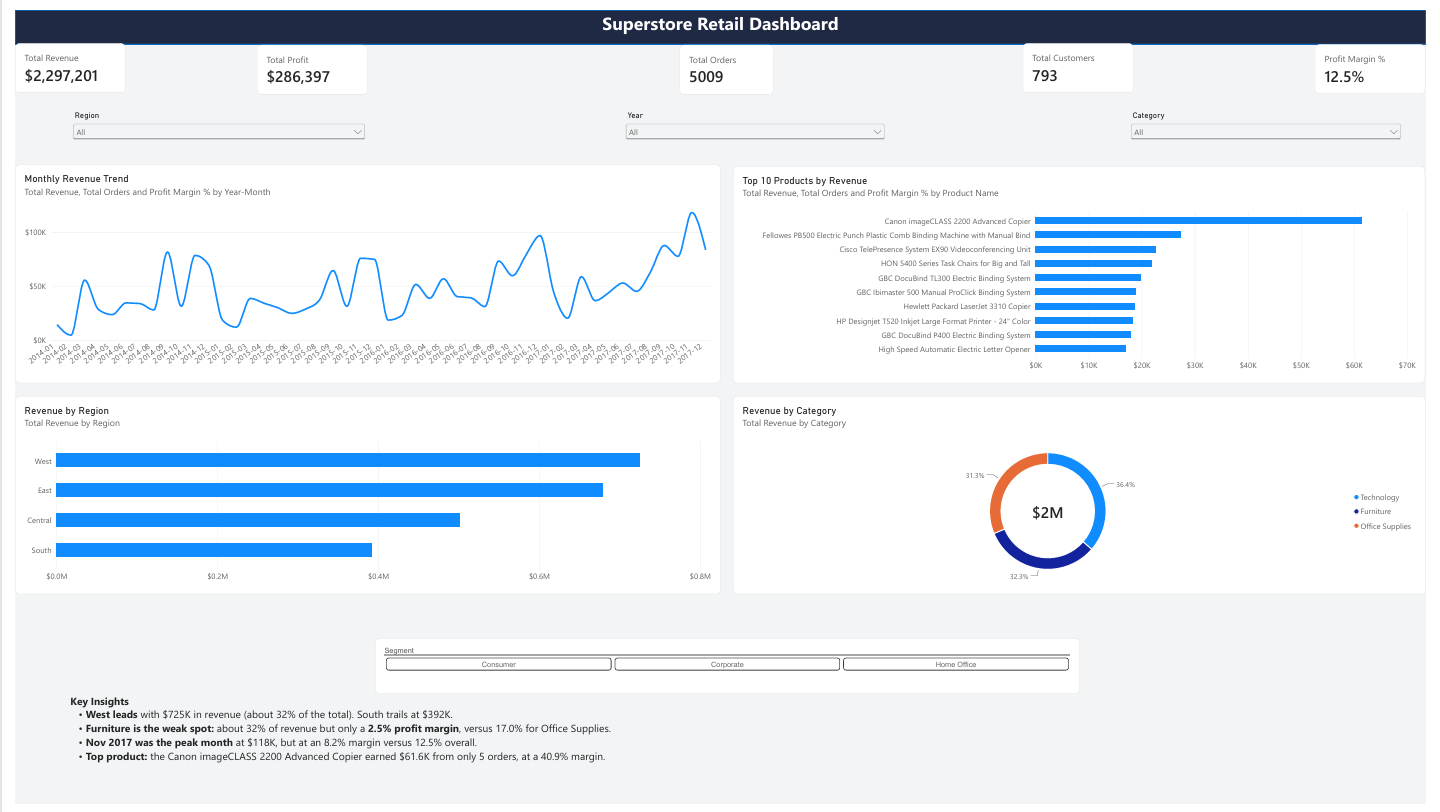

The page's visual inventory and layout, read from the dashboard file:
{"tool":"powerbi","page":{"name":"Overview","canvas":[2560,1440],"ordinal":0},"visuals":[{"type":"shape","box":[0,0,2560,61.5],"z":0},{"type":"textbox","box":[0,0,2560,69.7],"z":1000},{"type":"cardVisual","fields":{"Data":["Measures (2).Total Profit"]},"box":[439.1,62.7,200,90],"z":2000},{"type":"cardVisual","fields":{"Data":["Measures (2).Total Revenue"]},"box":[0,60.3,200,90],"z":3000},{"type":"cardVisual","fields":{"Data":["Measures (2).Total Customers"]},"box":[1829,60.3,200,90],"z":4000},{"type":"cardVisual","fields":{"Data":["Measures (2).Total Orders"]},"box":[1206.4,62.7,170,90],"z":5000},{"type":"cardVisual","fields":{"Data":["Measures (2).Profit Margin %"]},"box":[2359,61.5,200,90],"z":6000},{"type":"lineChart","title":"Monthly Revenue Trend","fields":{"Category":["DateTable.Year-Month"],"Y":["Measures (2).Total Revenue"]},"box":[0,280,1280,396.7],"z":7000},{"type":"clusteredBarChart","title":"Top 10 Products by Revenue","fields":{"Category":["Sales.Product Name"],"Y":["Measures (2).Total Revenue"]},"box":[1303.3,283.3,1255.4,393.8],"z":8000},{"type":"clusteredBarChart","title":"Revenue by Region","fields":{"Category":["Sales.Region"],"Y":["Measures (2).Total Revenue"]},"box":[0,700,1280,360],"z":9000},{"type":"donutChart","title":"Revenue by Category","fields":{"Category":["Sales.Category"],"Y":["Measures (2).Total Revenue"]},"box":[1303.3,700,1256.7,360],"z":10000},{"type":"slicer","fields":{"Values":["Sales.Region"]},"box":[100,183.3,540,83.3],"z":11000},{"type":"slicer","fields":{"Values":["Sales.Category"]},"box":[2020,183.3,500,53.3],"z":12000},{"type":"slicer","fields":{"Values":["DateTable.Year"]},"box":[1103.3,183.3,480,106.7],"z":13000},{"type":"ChicletSlicer1448559807354","fields":{"Category":["Sales.Segment"]},"box":[652.6,1140,1279,99.6],"z":14000},{"type":"textbox","box":[100,1240,1275,200],"z":14002}]}

Visuals, with their boxes in screenshot pixels (x1, y1, x2, y2), scaled from the page's 2560x1440 canvas onto the 1440x812 screenshot:
shape: bbox=(0, 0, 1439, 35)
textbox: bbox=(0, 0, 1439, 39)
cardVisual - Measures (2).Total Profit: bbox=(247, 35, 359, 86)
cardVisual - Measures (2).Total Revenue: bbox=(0, 34, 112, 85)
cardVisual - Measures (2).Total Customers: bbox=(1029, 34, 1141, 85)
cardVisual - Measures (2).Total Orders: bbox=(679, 35, 774, 86)
cardVisual - Measures (2).Profit Margin %: bbox=(1327, 35, 1439, 85)
"Monthly Revenue Trend" lineChart: bbox=(0, 158, 720, 382)
"Top 10 Products by Revenue" clusteredBarChart: bbox=(733, 160, 1439, 382)
"Revenue by Region" clusteredBarChart: bbox=(0, 395, 720, 598)
"Revenue by Category" donutChart: bbox=(733, 395, 1439, 598)
slicer - Sales.Region: bbox=(56, 103, 360, 150)
slicer - Sales.Category: bbox=(1136, 103, 1418, 133)
slicer - DateTable.Year: bbox=(621, 103, 891, 164)
ChicletSlicer1448559807354 - Sales.Segment: bbox=(367, 643, 1087, 699)
textbox: bbox=(56, 699, 773, 811)
